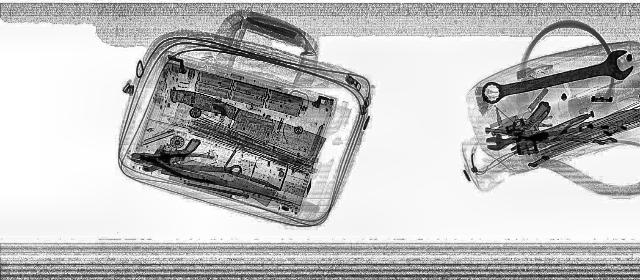Gun: (482, 98, 558, 138), (126, 139, 206, 165)
Knife: (134, 86, 352, 162)
Pliers: (125, 147, 233, 183)
Wrench: (468, 58, 640, 104), (476, 120, 600, 150), (140, 158, 246, 176)
